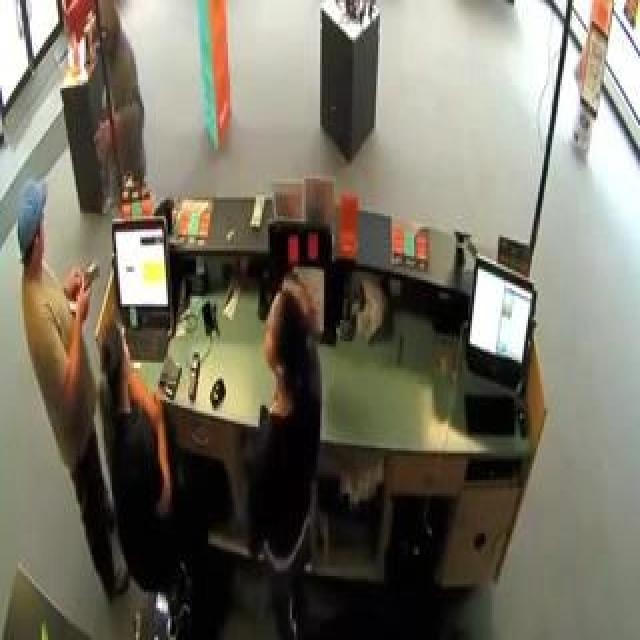high_con: (89, 0, 133, 73)
low_con: (11, 179, 57, 284)
no_con: (262, 289, 314, 402), (96, 322, 139, 426)
